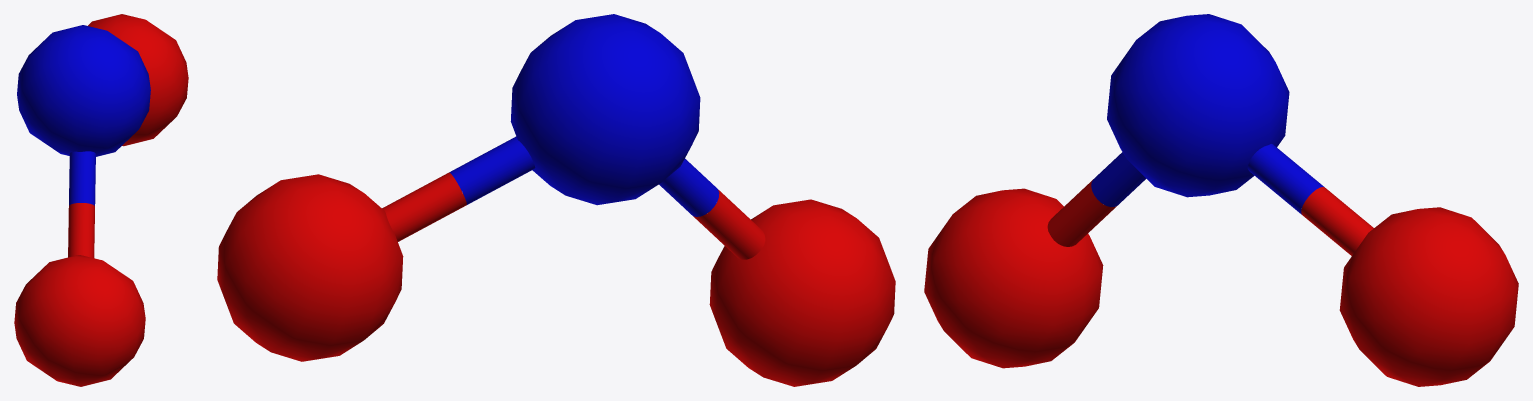
3 renders of one model, left to right at view 1: azimuth 30°, elevation 25°; view 2: azimuth 150°, elevation 25°; view 3: azimuth 270°, elevation 25°, orthographic. The views are drawn at different scales.
Visible parts, largest first — view 1: vmd_mol0_rep0; view 2: vmd_mol0_rep0; view 3: vmd_mol0_rep0.
Part boxes in pixels (x1,y1,x2,y2): vmd_mol0_rep0: (14,14,188,386); vmd_mol0_rep0: (217,14,895,386); vmd_mol0_rep0: (924,14,1518,386).
Bounding box in the file's own units: 1.01 × 0.8854 × 1.24.
